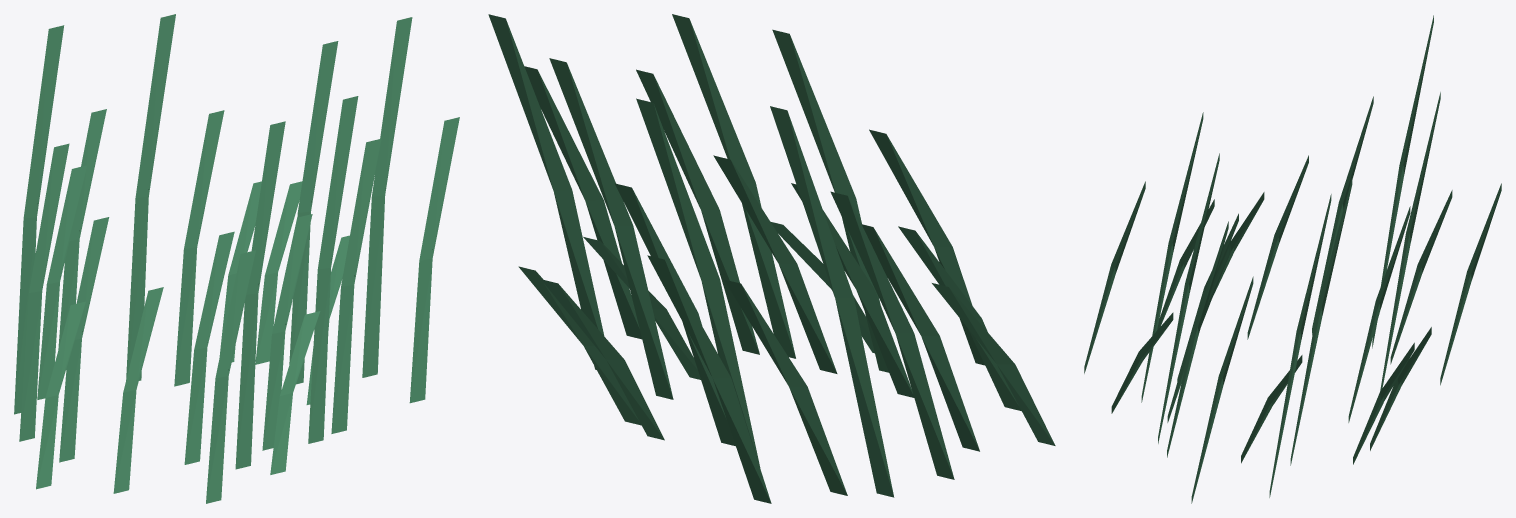
Rendered from turtle-grass.glb.
The picture shows the model from 3 angles, left to right: view 1: azimuth 30°, elevation 25°; view 2: azimuth 150°, elevation 25°; view 3: azimuth 270°, elevation 25°; orthographic projection. The views are drawn at different scales.
Visible parts, largest first — view 1: turtle-grass; view 2: turtle-grass; view 3: turtle-grass.
Boxes of the visible parts, left/top/right/bottom form: turtle-grass: left=14, top=14, right=459, bottom=503; turtle-grass: left=488, top=14, right=1055, bottom=503; turtle-grass: left=1084, top=15, right=1501, bottom=503.
Size of the model in its own units: 0.6951 by 0.5153 by 0.5426.
